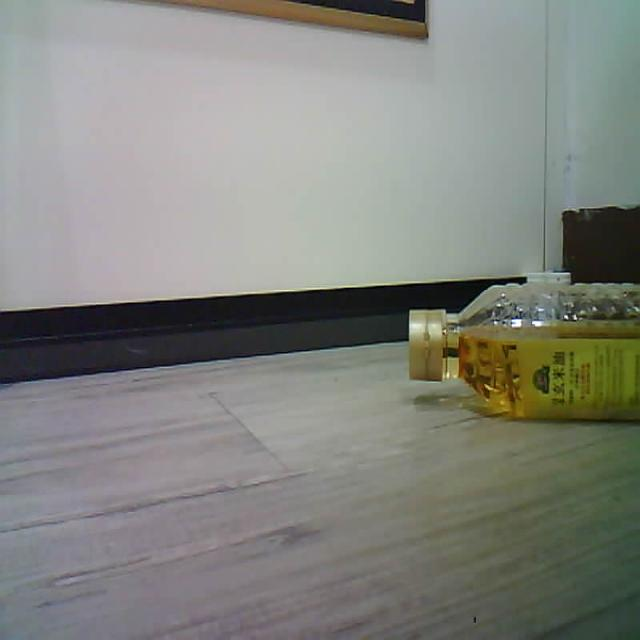bottle: (409, 273, 639, 420)
